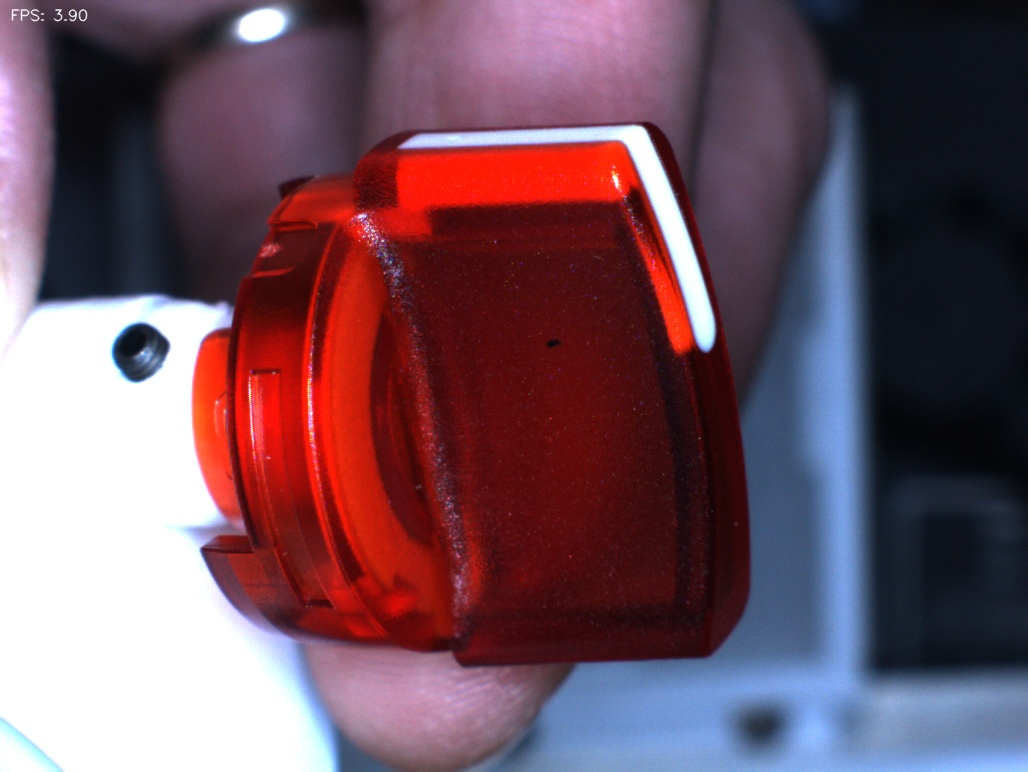PointNoir: (509, 305, 589, 372)
